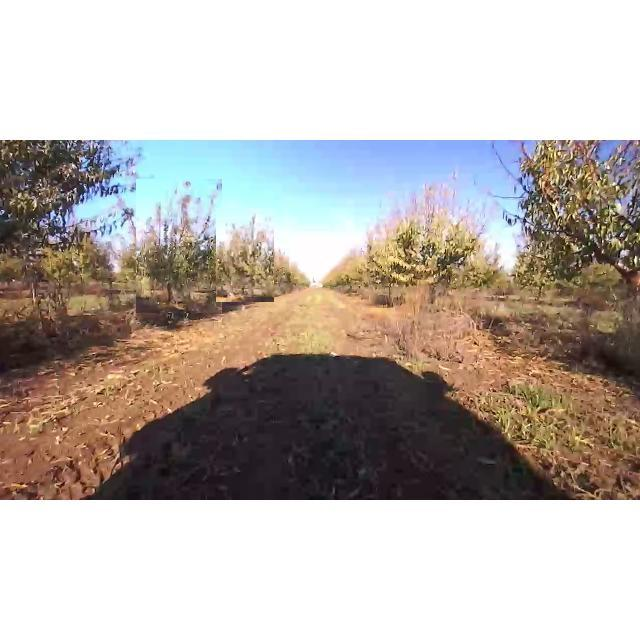direk: (480, 142, 640, 330), (0, 142, 144, 298), (367, 173, 498, 317), (136, 179, 222, 313), (216, 208, 274, 302)
